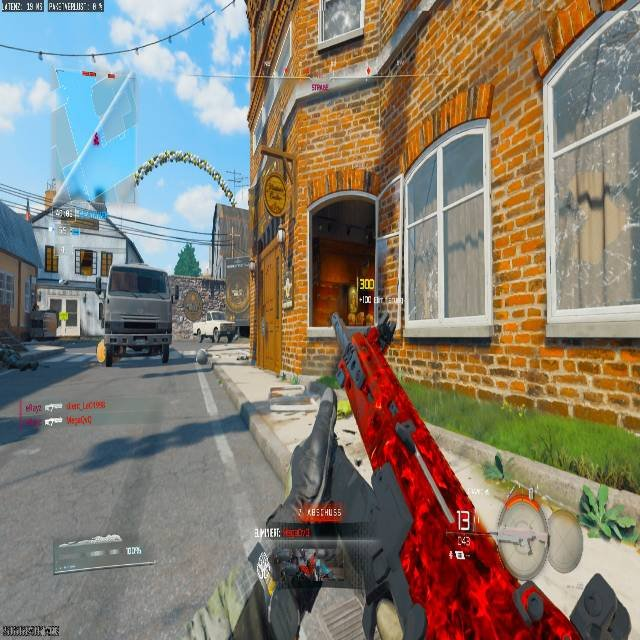player: (326, 280, 398, 394)
